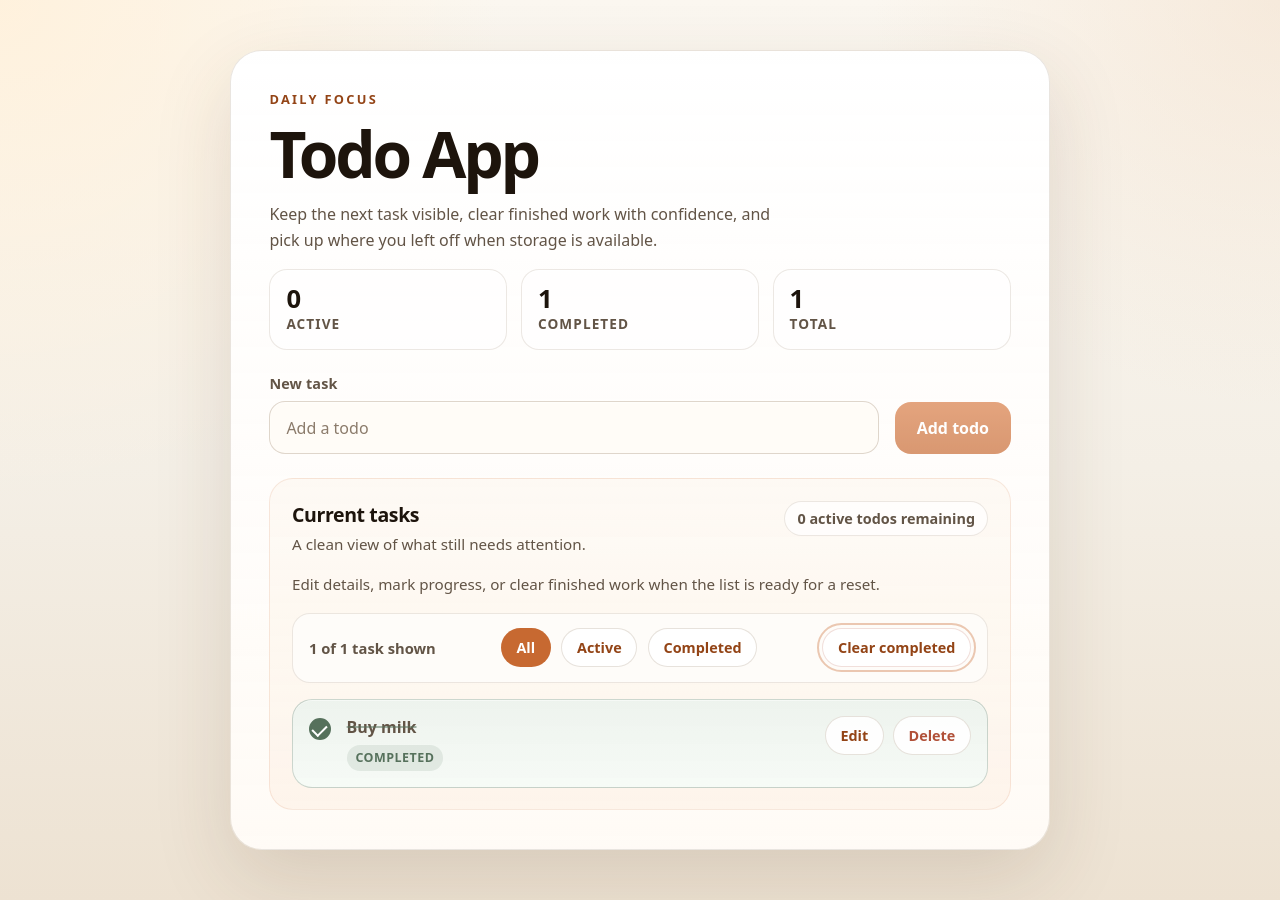
Scenario: HomePage › returns focus to the composer after clearing completed todos
Step 1. Click the button "Clear completed" → (897, 648), box [822, 628, 971, 667]
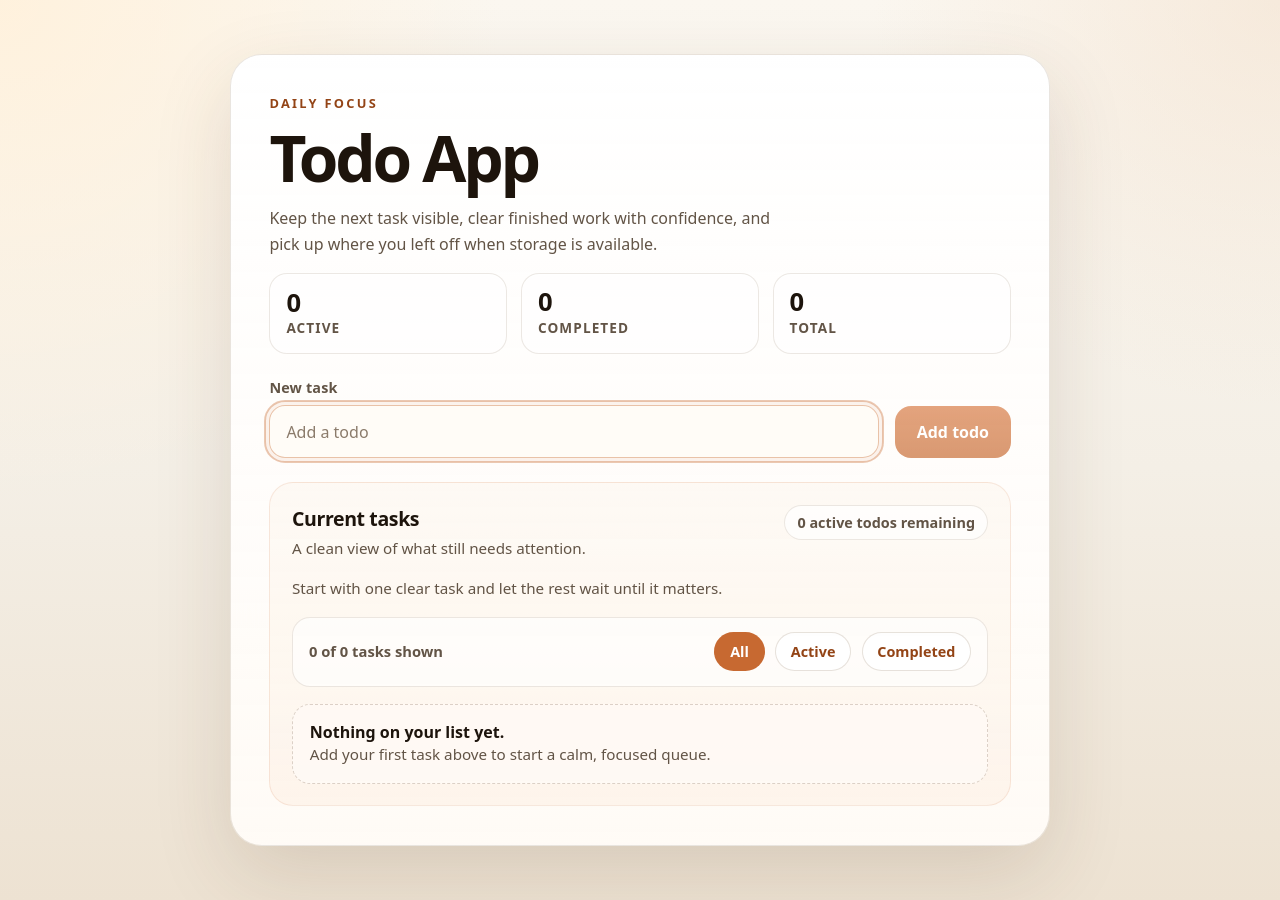
Expected: the text "Buy milk" is gone
